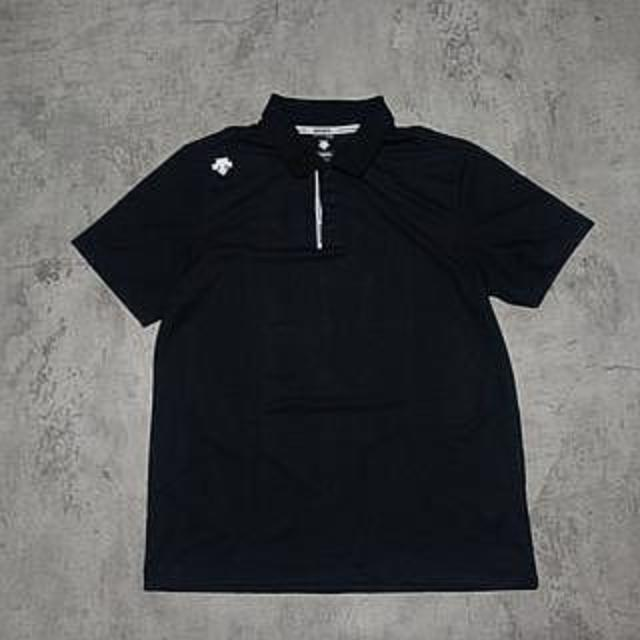T_SHIRT: (57, 75, 604, 602)
